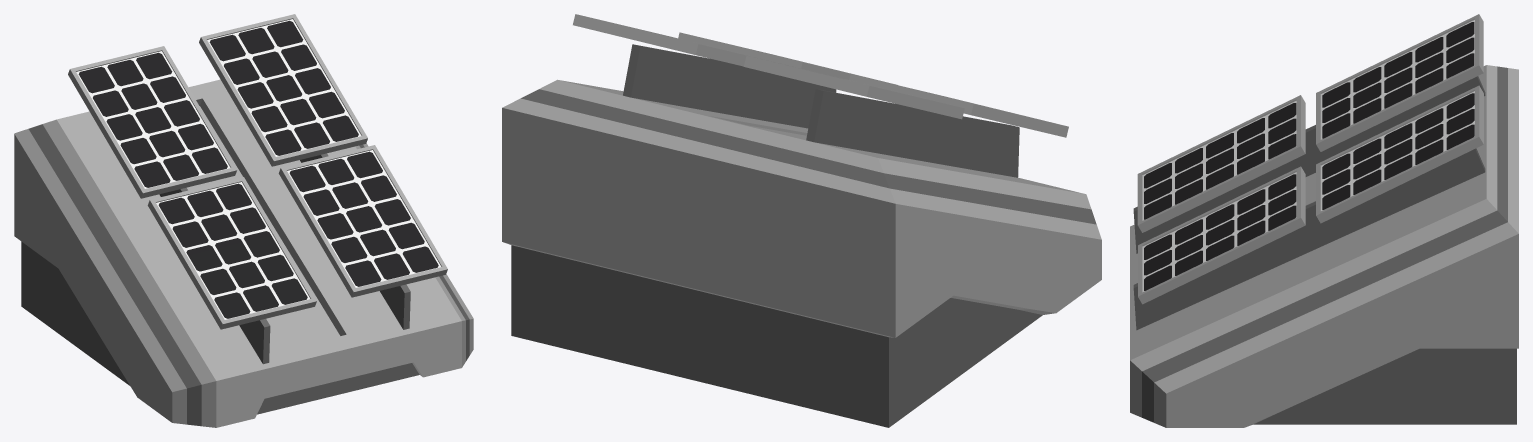
The model's file is pv-roof-structure.glb.
3 renders of one model, left to right at view 1: azimuth 30°, elevation 25°; view 2: azimuth 150°, elevation 25°; view 3: azimuth 270°, elevation 25°, orthographic. The views are drawn at different scales.
Parts seen in each view (by area): view 1: SolarPanel_Structure; view 2: SolarPanel_Structure; view 3: SolarPanel_Structure.
Boxes of the visible parts, x1,y1,x2,y2 form: SolarPanel_Structure: (14,14,473,427); SolarPanel_Structure: (502,14,1101,427); SolarPanel_Structure: (1130,14,1518,427).
Size of the model in its own units: 8 by 6.14 by 8.
Materials: 1 (1 with a texture image).
